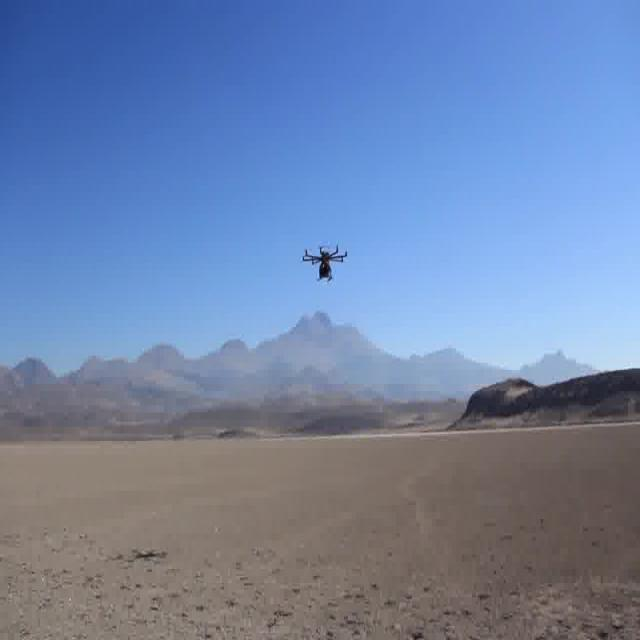drone: (299, 233, 354, 294)
